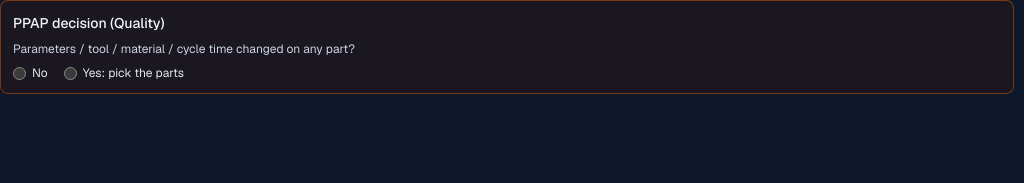
PpapDecisionCard › Quality answers no with basis and reference; nothing preselected
The image size is (1024, 183).
Later steps or results of the test are not shown.
Click the radio button with test id "ppap-no": {"x": 20, "y": 73} [13, 66, 26, 80]
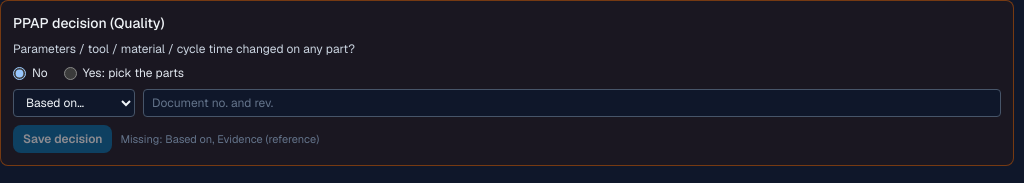
expect the button with test id "ppap-save" is disabled: met, box [13, 125, 112, 153]
Select "Control plan" in the dropdown with test id "ppap-basis": {"x": 74, "y": 103} [13, 89, 135, 117]
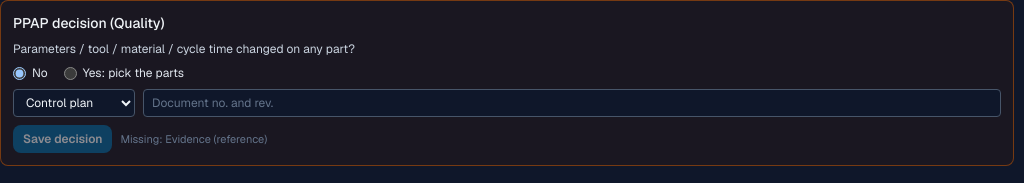
In the field with test id "ppap-ref": {"x": 572, "y": 103} [143, 89, 1001, 117], type "ok"
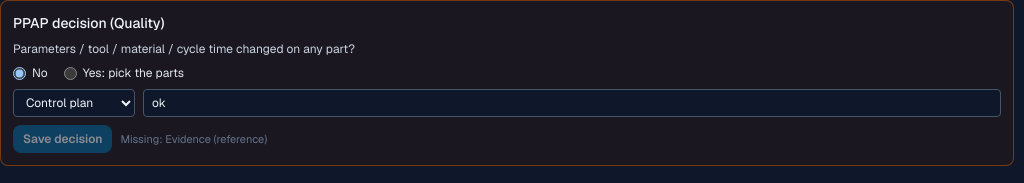
expect the button with test id "ppap-save" is disabled: met, box [13, 125, 112, 153]
